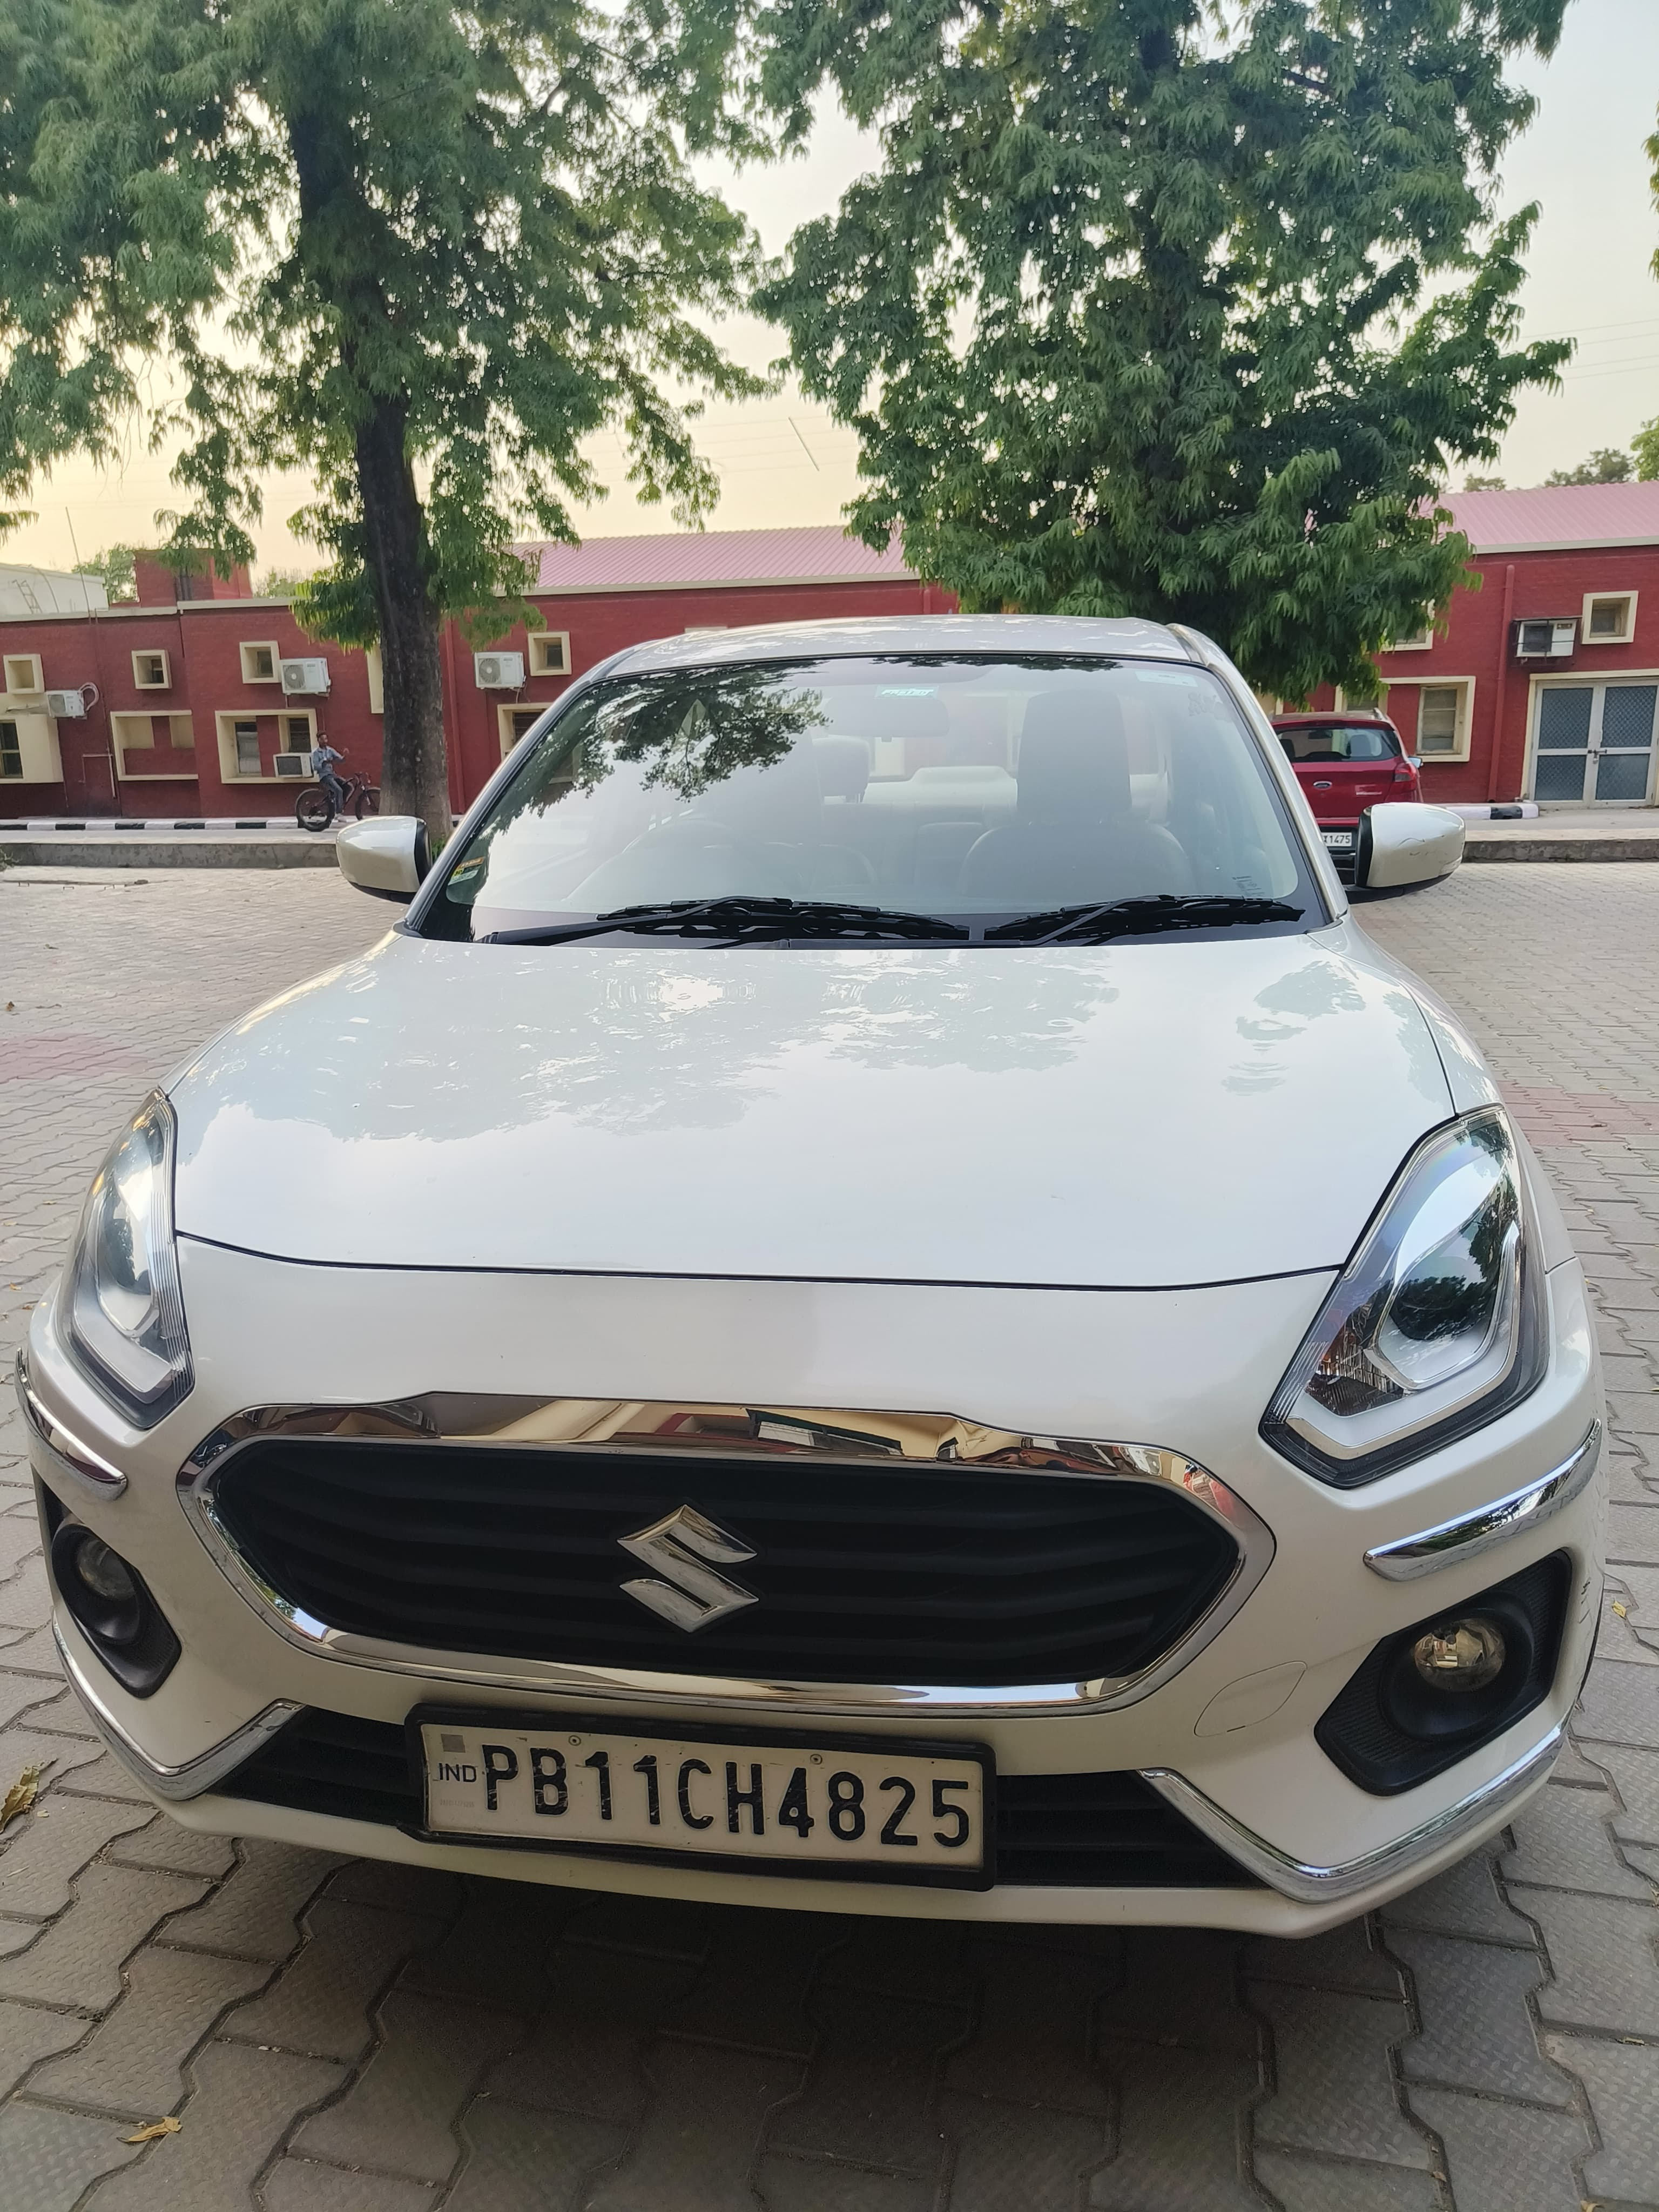license plate: (416, 1715, 992, 1886)
